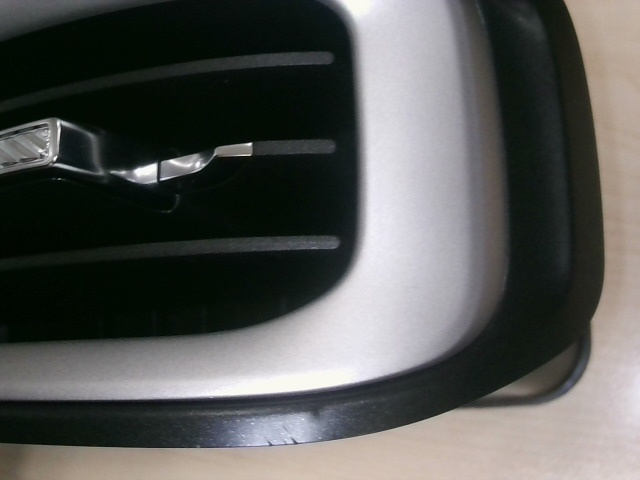NG: (252, 415, 317, 460), (375, 271, 429, 302)
